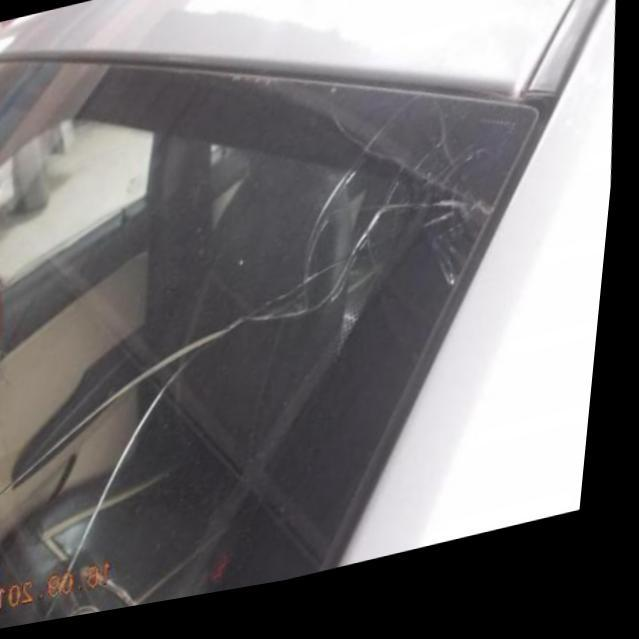glass shatter: (398, 160, 510, 271)
